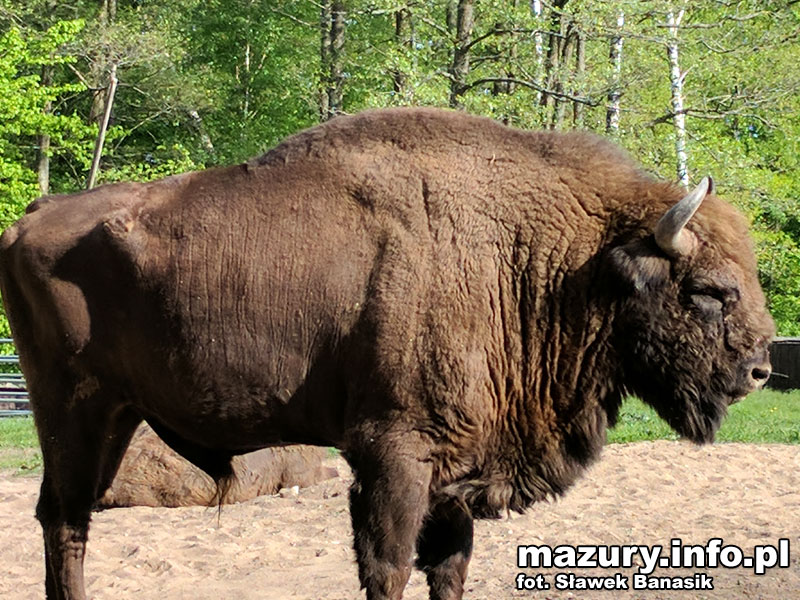zubr: (7, 90, 800, 590)
